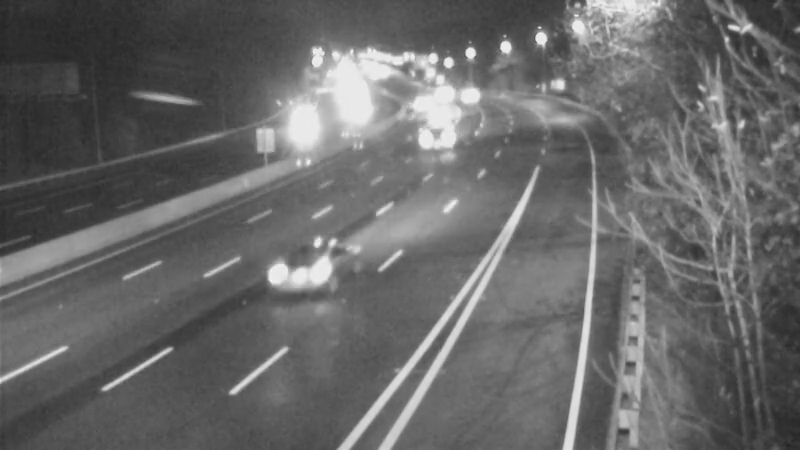vehicle: (249, 230, 329, 310), (420, 69, 470, 119), (446, 68, 496, 118), (396, 78, 446, 128), (414, 88, 464, 138), (416, 112, 466, 162), (275, 98, 325, 148)
